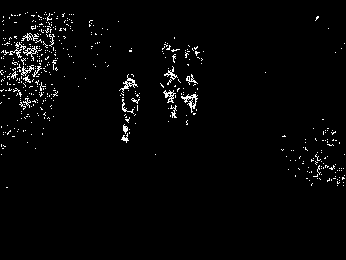person: (118, 73, 142, 144), (159, 65, 180, 120), (180, 72, 200, 127)
